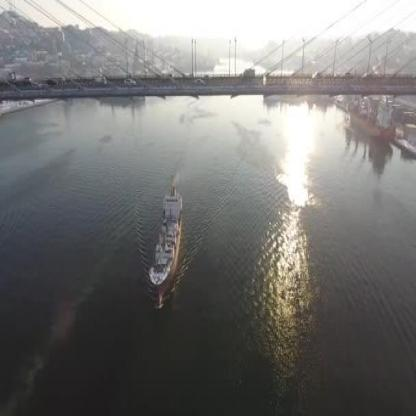other: (259, 99, 331, 215), (274, 227, 307, 331)
